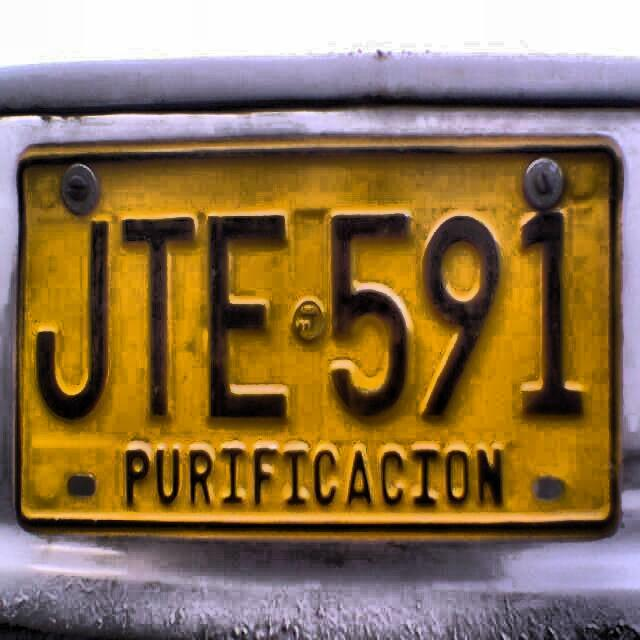plate: (15, 134, 623, 537)
